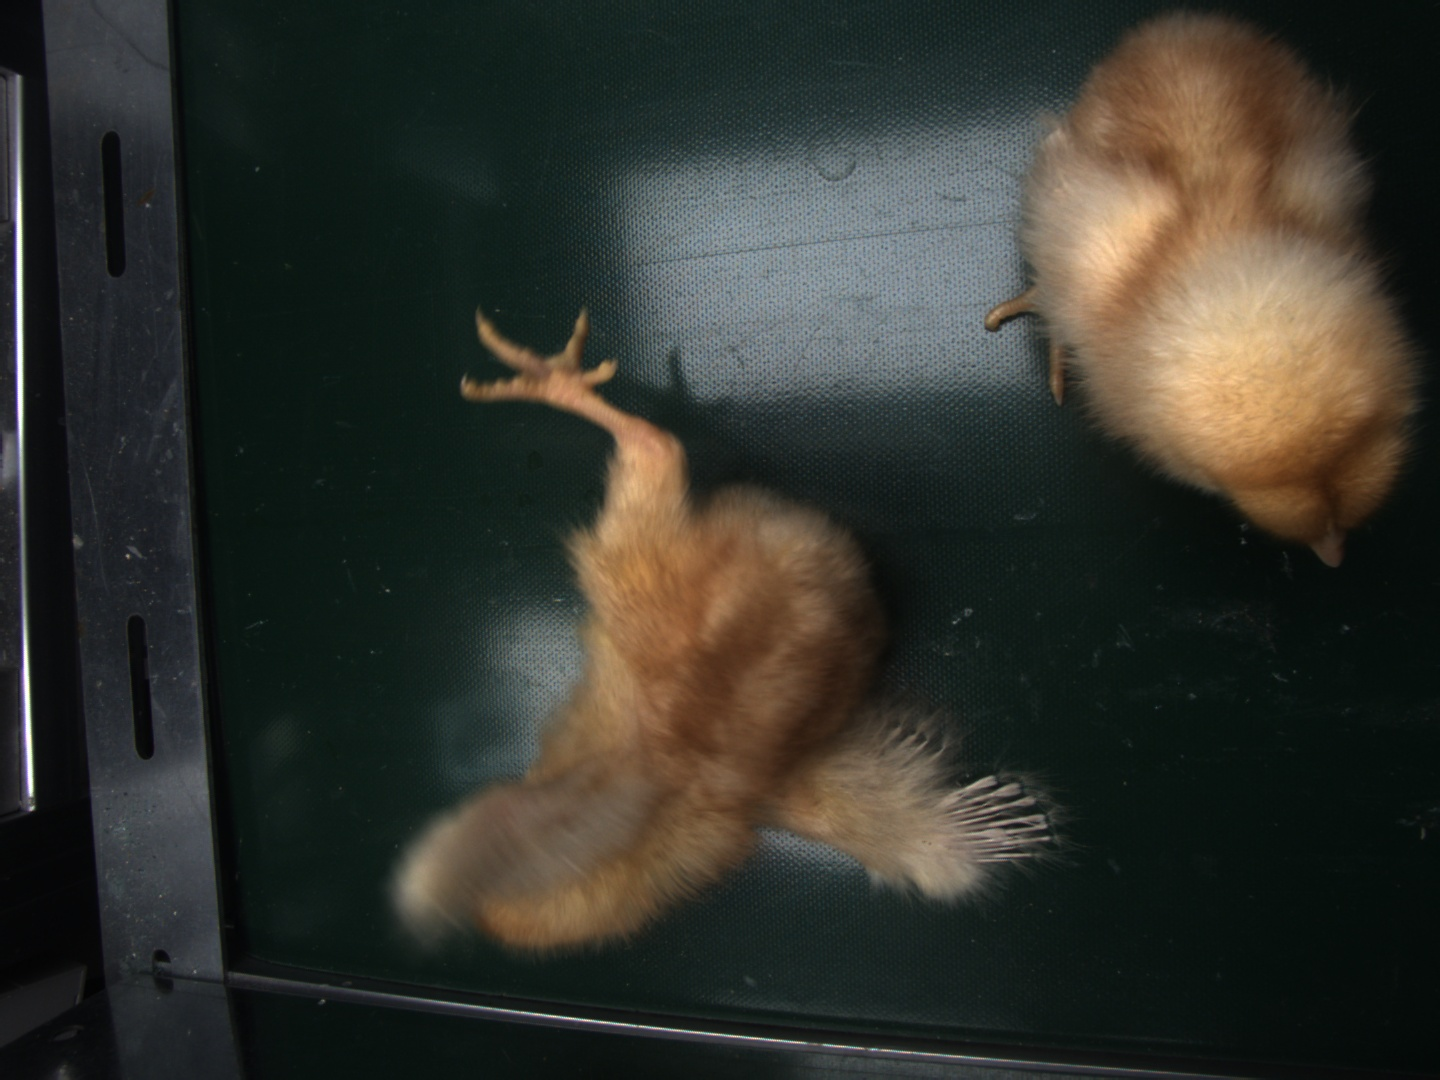female: (948, 785, 1054, 869)
